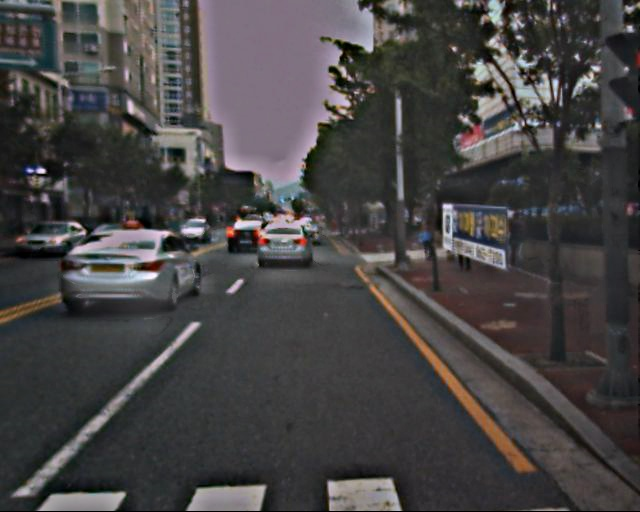person: (502, 212, 529, 278), (453, 215, 478, 275), (419, 215, 438, 262)
